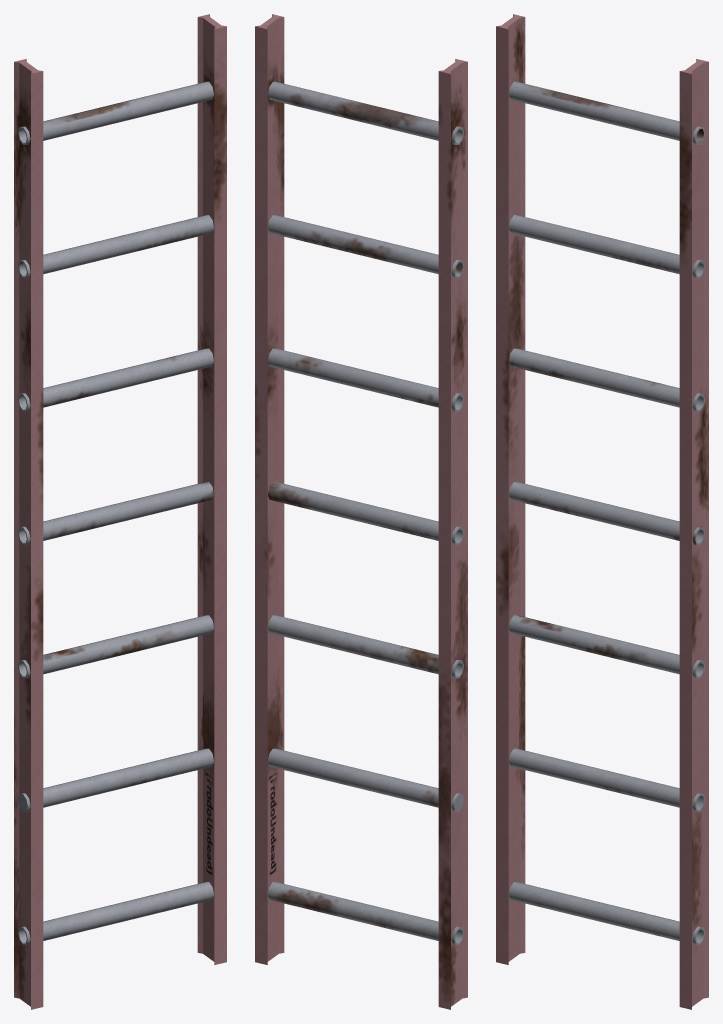
Rendered from LAdder.fbx.
3 renders of one model, left to right at view 1: azimuth 30°, elevation 25°; view 2: azimuth 150°, elevation 25°; view 3: azimuth 330°, elevation 25°, orthographic.
Parts seen in each view (by area): view 1: Cylinder.002; view 2: Cylinder.002; view 3: Cylinder.002.
Part boxes in pixels (x1,y1,x2,y2): Cylinder.002: (14,14,226,1009); Cylinder.002: (255,14,467,1009); Cylinder.002: (496,14,708,1009).
Size of the model in its own units: 168 by 765 by 24.96.
1 material, 1 textured.
